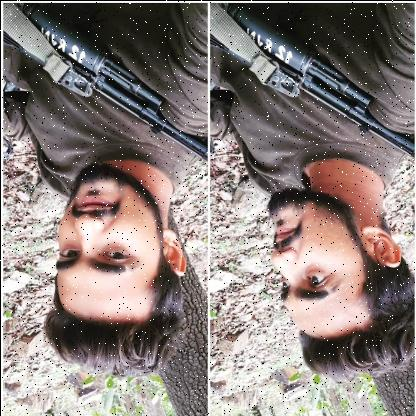rifle: (209, 2, 414, 157), (2, 2, 207, 157)
